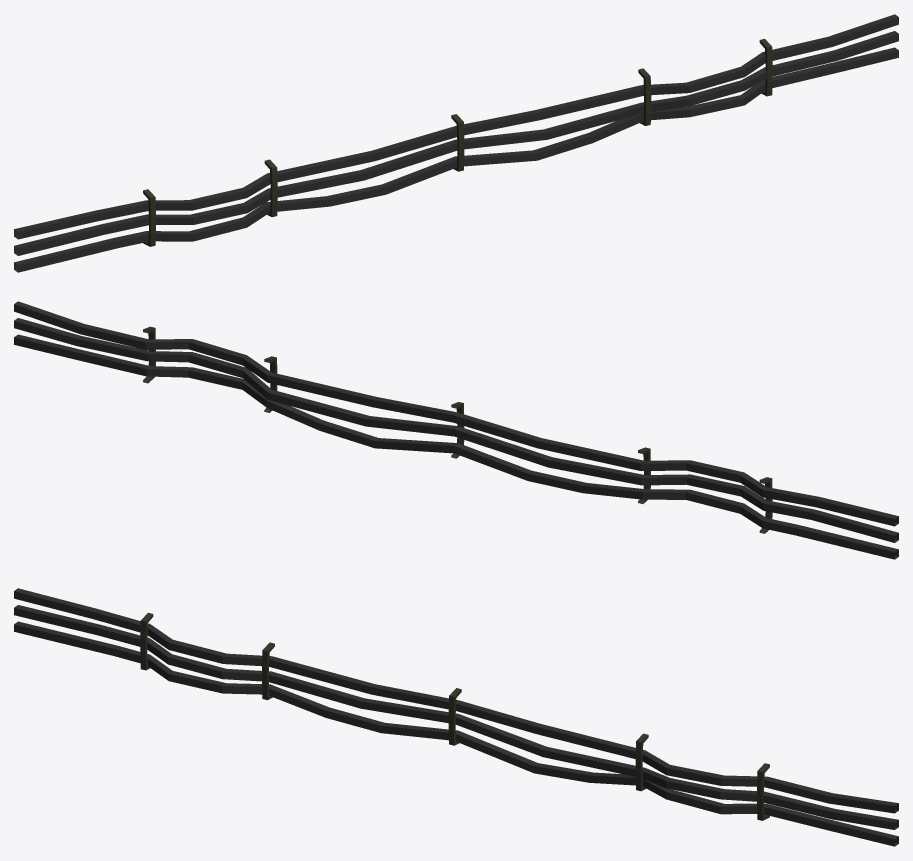
The model's file is SW_ENV_Wires3_RailTunnelWall_05_05m.fbx.
The picture shows the model from 3 angles, top to bottom: view 1: azimuth 30°, elevation 25°; view 2: azimuth 150°, elevation 25°; view 3: azimuth 330°, elevation 25°; orthographic projection.
Parts seen in each view (by area): view 1: SW_ENV_Wires3_RailTunnelWall_05_05m; view 2: SW_ENV_Wires3_RailTunnelWall_05_05m; view 3: SW_ENV_Wires3_RailTunnelWall_05_05m.
Boxes of the visible parts, <box> form: SW_ENV_Wires3_RailTunnelWall_05_05m: <box>14,14,898,272</box>; SW_ENV_Wires3_RailTunnelWall_05_05m: <box>14,301,898,559</box>; SW_ENV_Wires3_RailTunnelWall_05_05m: <box>14,588,898,846</box>.
Bounding box in the file's own units: 500 × 33.89 × 14.98.
